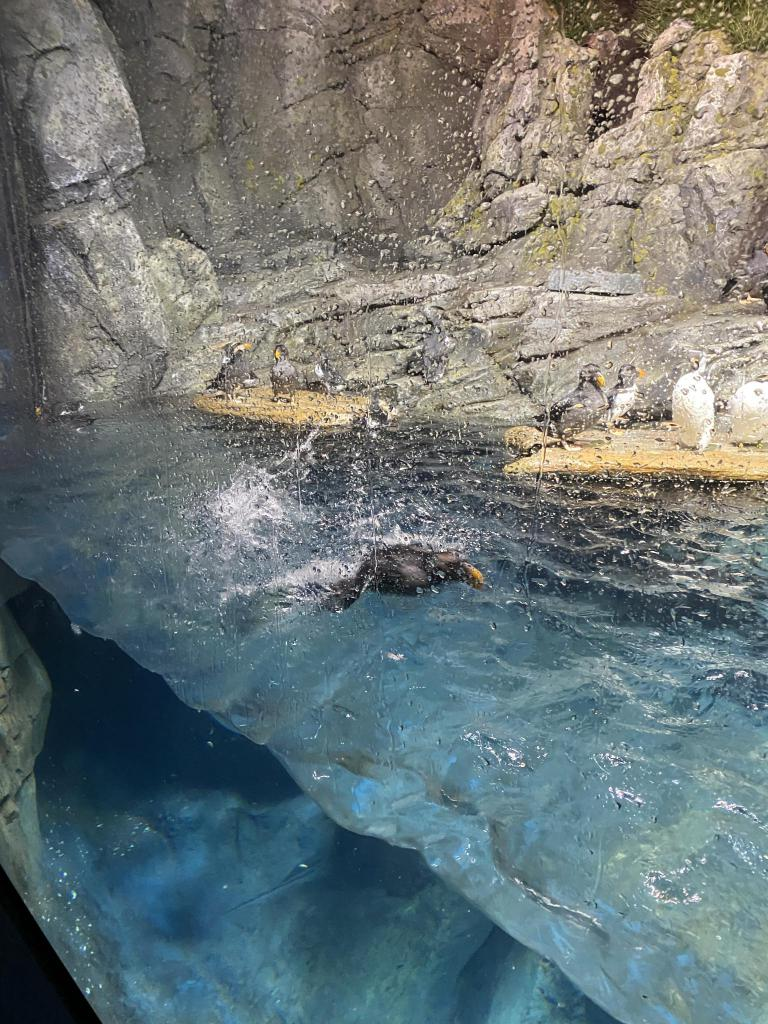puffin: (322, 544, 485, 610), (534, 364, 610, 452), (674, 354, 714, 452), (596, 362, 644, 428), (206, 340, 250, 396), (731, 382, 767, 450), (270, 346, 298, 402), (31, 398, 85, 420), (316, 358, 344, 394)
